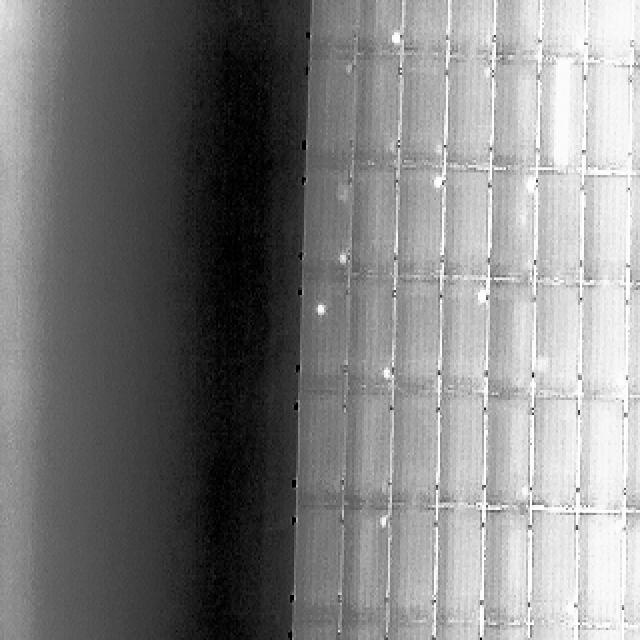Hotspots: (331, 244, 351, 272), (382, 25, 401, 52), (520, 178, 540, 200), (374, 512, 390, 535), (563, 596, 577, 622), (313, 300, 328, 324), (342, 59, 356, 80), (474, 288, 488, 308), (380, 366, 395, 384), (517, 480, 530, 499), (434, 172, 446, 190)
PV-modules: (478, 509, 530, 629), (386, 507, 438, 627), (294, 508, 347, 624), (432, 508, 484, 626), (294, 392, 346, 509), (307, 51, 359, 168), (344, 277, 394, 396), (342, 392, 393, 508), (486, 282, 536, 399), (393, 282, 444, 396), (395, 167, 446, 281), (489, 60, 540, 174), (339, 508, 390, 622), (532, 284, 582, 400), (575, 396, 625, 512), (437, 281, 487, 396), (352, 52, 402, 167), (392, 392, 442, 507), (528, 512, 578, 627), (438, 168, 489, 280), (537, 61, 587, 175), (483, 394, 533, 507), (442, 60, 492, 172), (487, 168, 537, 280), (580, 65, 630, 176), (297, 285, 347, 396), (575, 514, 623, 629), (400, 53, 449, 165), (578, 282, 626, 396), (436, 392, 484, 505), (536, 173, 585, 282), (582, 175, 631, 284), (350, 168, 398, 279), (302, 170, 350, 280), (533, 396, 580, 508), (582, 0, 632, 64), (310, 0, 365, 54), (540, 0, 588, 60), (400, 0, 450, 57), (356, 0, 405, 58), (445, 0, 493, 59), (492, 0, 540, 58), (620, 512, 640, 628), (622, 288, 640, 402), (624, 172, 640, 288), (624, 395, 640, 510), (626, 68, 640, 178), (292, 622, 346, 640), (336, 622, 386, 640), (528, 625, 578, 640), (430, 625, 480, 640), (384, 625, 434, 640), (572, 627, 622, 640), (630, 0, 640, 65), (480, 627, 528, 640), (622, 627, 640, 640)
